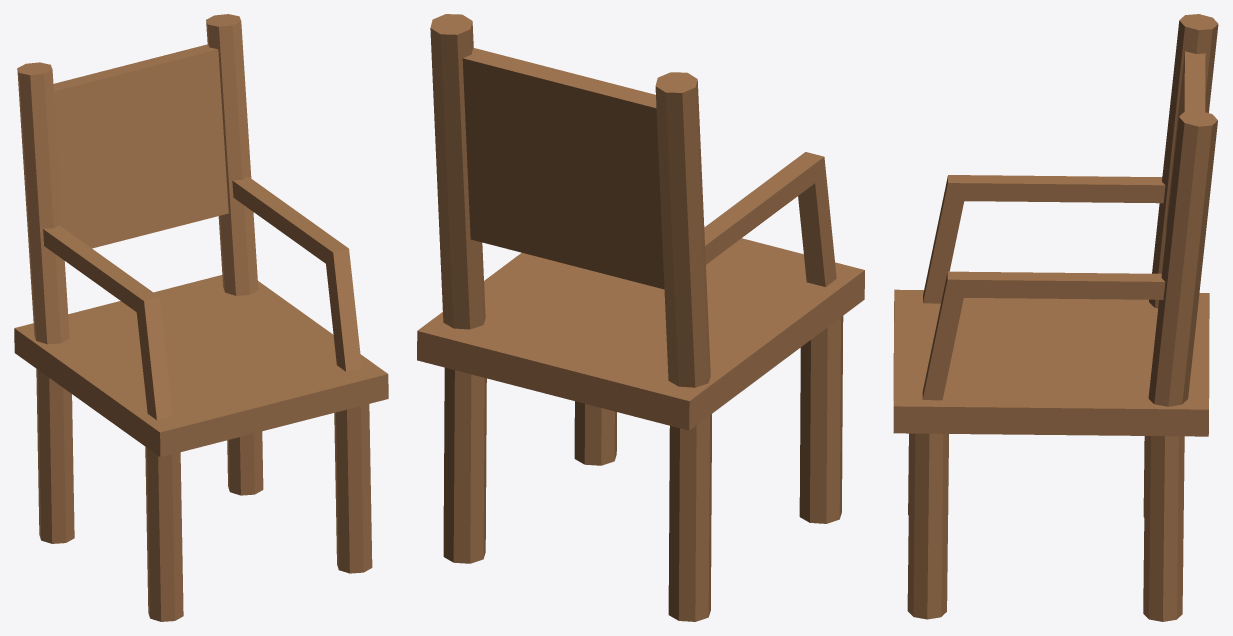
File: 07 Chair.FBX
3 views of the same model, side by side, from view 1: azimuth 30°, elevation 25°; view 2: azimuth 150°, elevation 25°; view 3: azimuth 270°, elevation 25° (orthographic). The views are drawn at different scales.
Parts seen in each view (by area): view 1: Chair; view 2: Chair; view 3: Chair.
Boxes of the visible parts, left/top/right/bottom form: Chair: left=14, top=14, right=388, bottom=621; Chair: left=417, top=14, right=864, bottom=621; Chair: left=893, top=14, right=1218, bottom=621.
Bounding box in the file's own units: 362 × 698 × 413.
